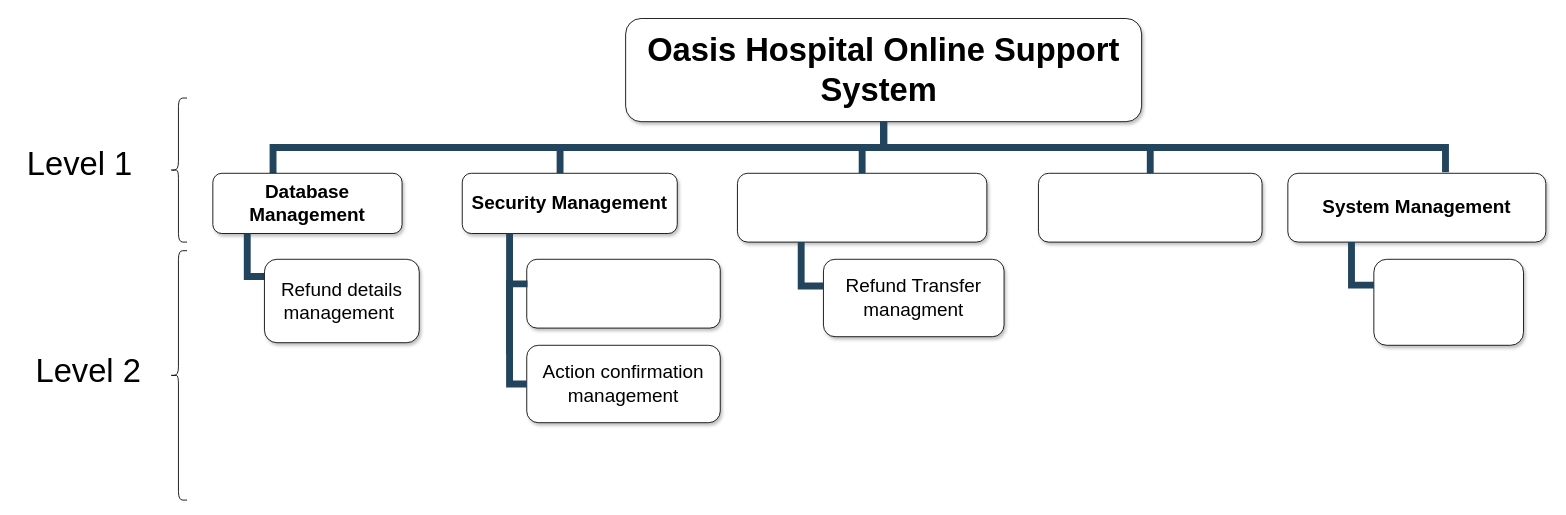
This 1566x515 diagram has some shape labels left out. The centre of each missing label's shape, as x and y in pixels:
"Cash Transaction Management" goes at point (862, 208).
"Navigation Management" goes at point (1449, 303).
"User Management" goes at point (1150, 208).
"Validation management" goes at point (623, 294).
